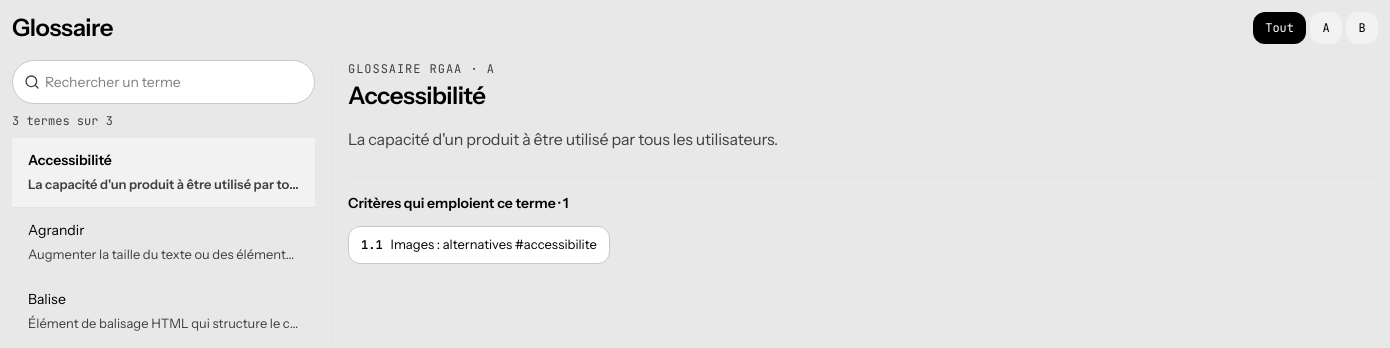
Test: GlossaryScreen › combine le filtrage par recherche et par lettre
Note: Filtrer par lettre A
Click the button "A": (1326, 28) [1310,12,1342,44]
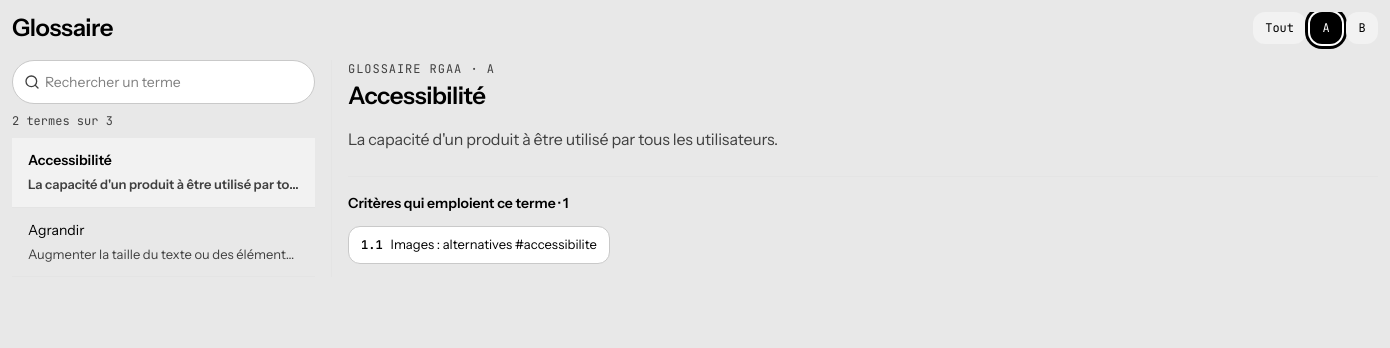
Check: the text "2 termes sur 3" is shown, box [12,113,113,129]
Note: Taper la recherche « accessi » qui correspond à « Accessibilité »
In the search field named "Rechercher un terme du glossaire": (164, 82) [12,60,315,104], type "accessi"
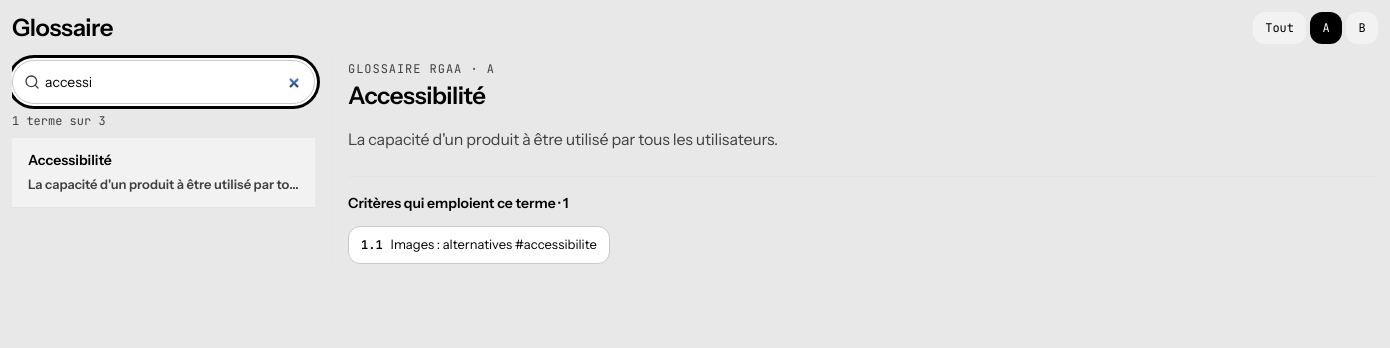
Check: the text "1 terme sur 3" is shown, box [12,113,106,129]
